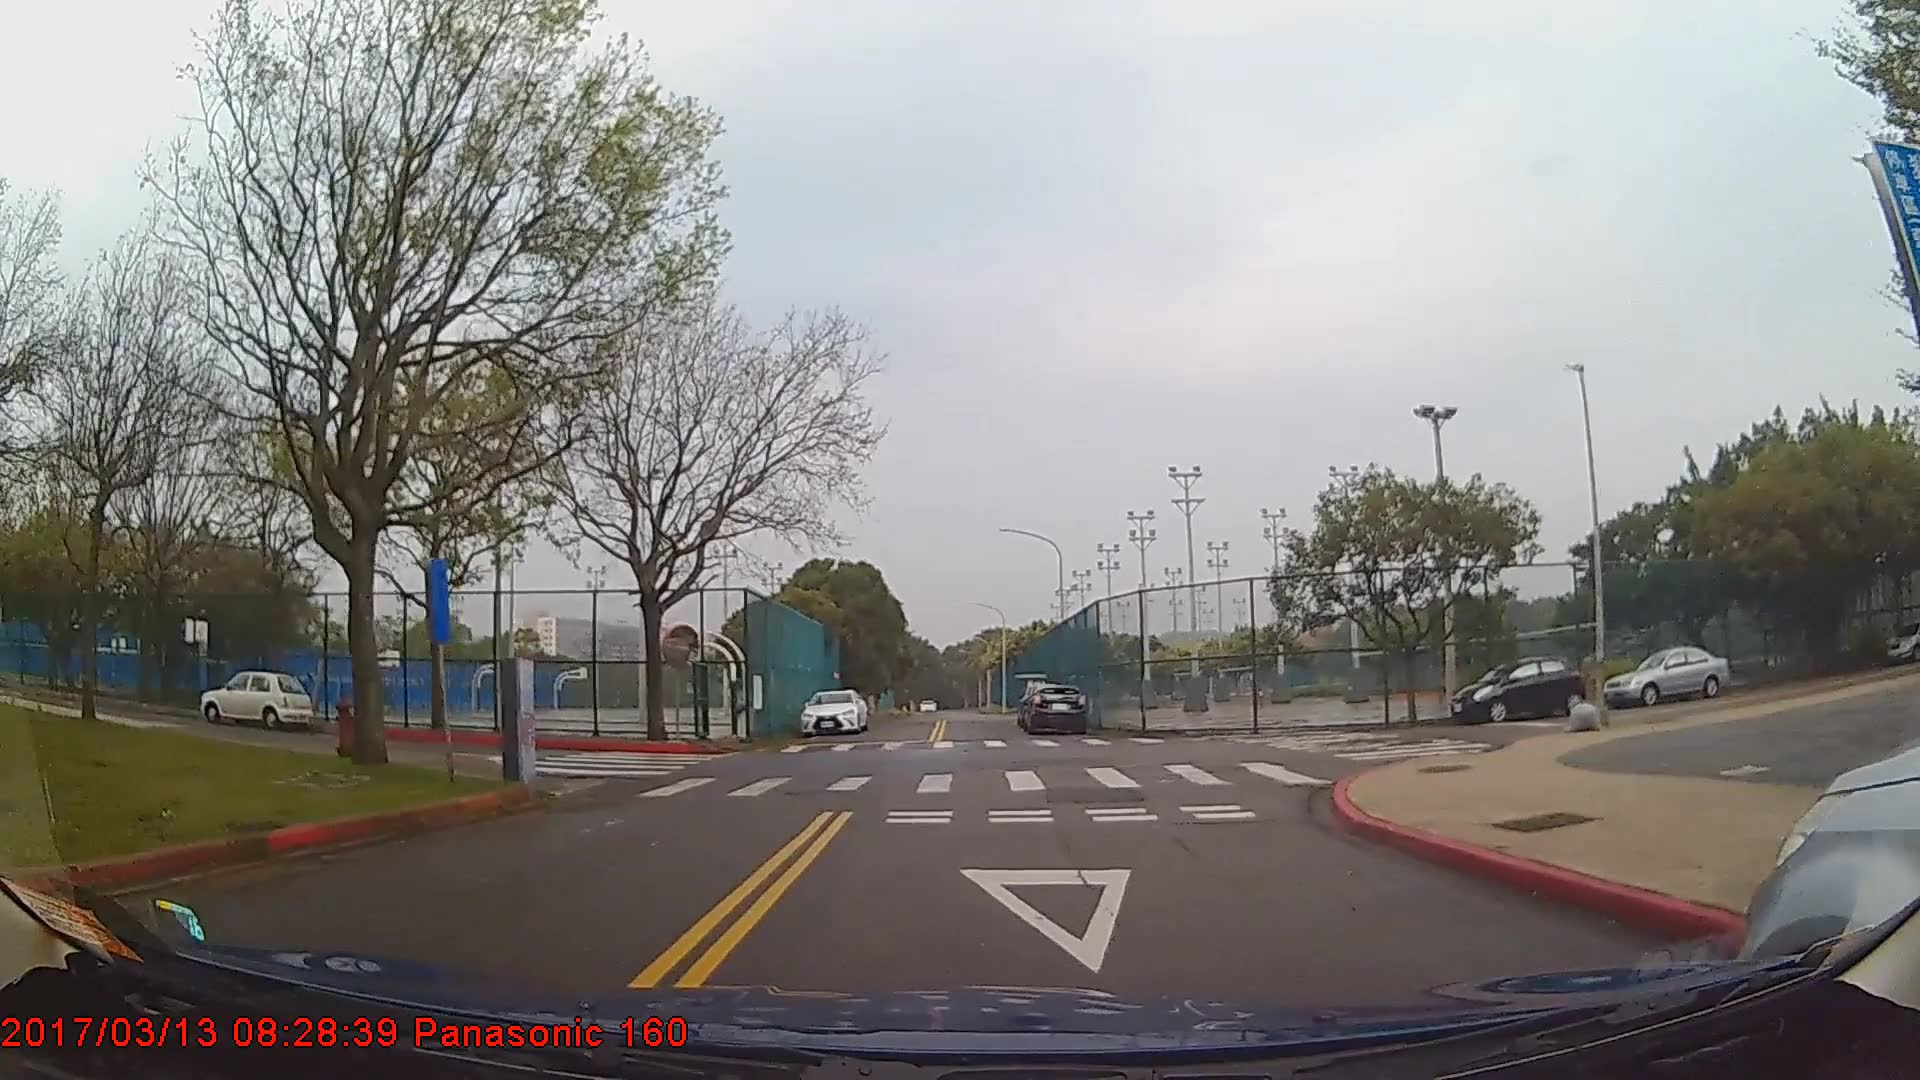vehicle: (1448, 655, 1582, 723), (1604, 644, 1733, 707), (199, 665, 313, 725), (1019, 680, 1087, 733), (796, 687, 866, 736), (1886, 620, 1920, 662)
